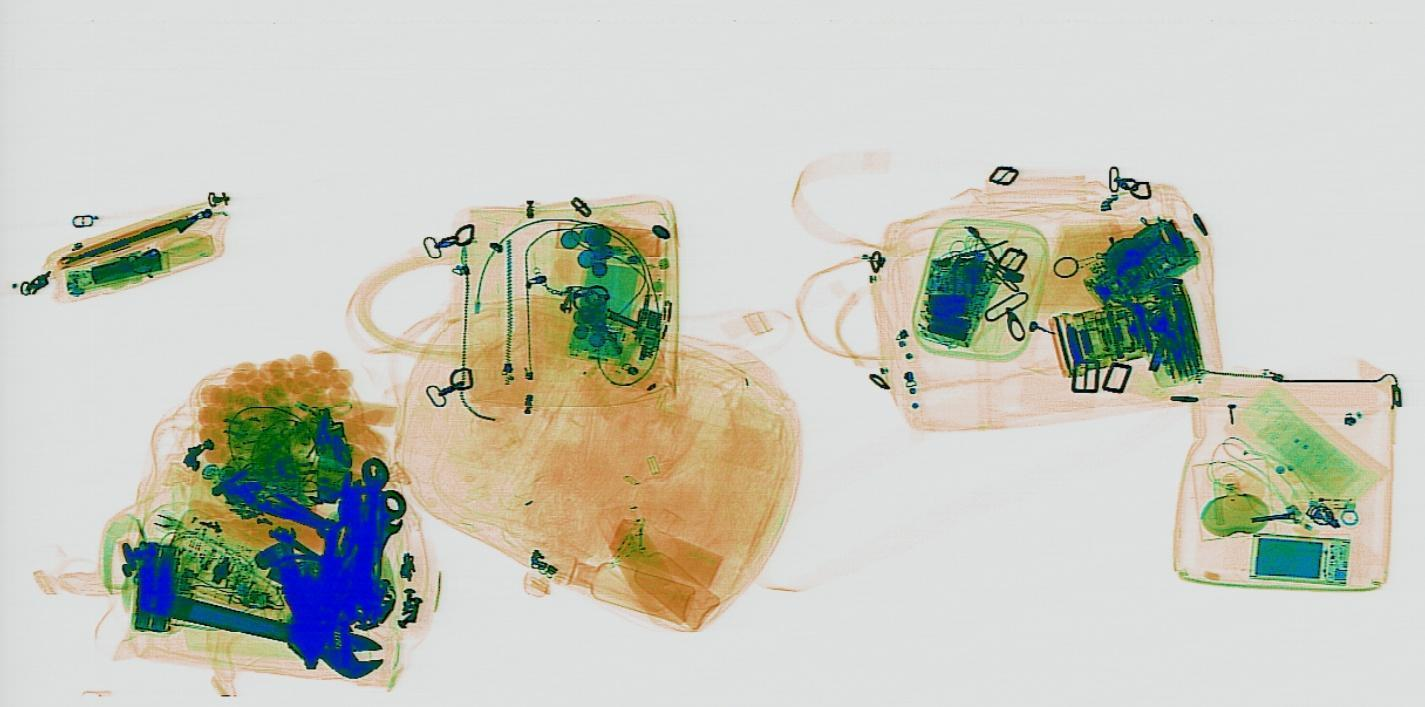Wrench: (109, 575, 412, 682)
